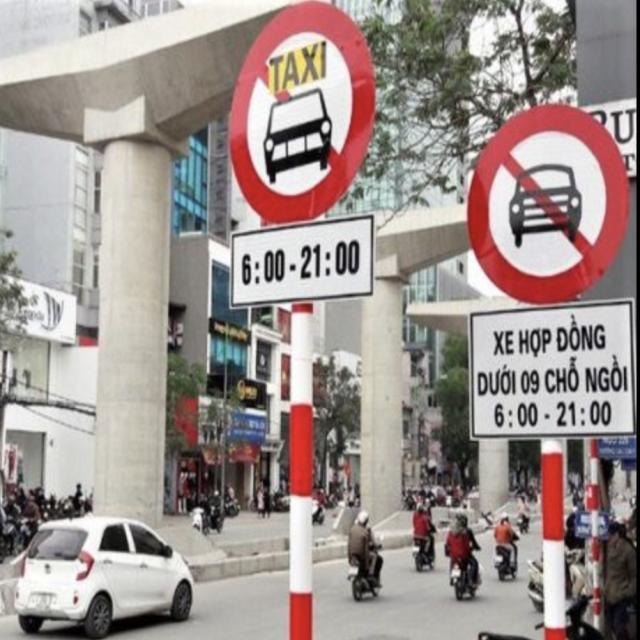103a-cam-oto: (465, 104, 630, 304), (230, 0, 376, 224)
